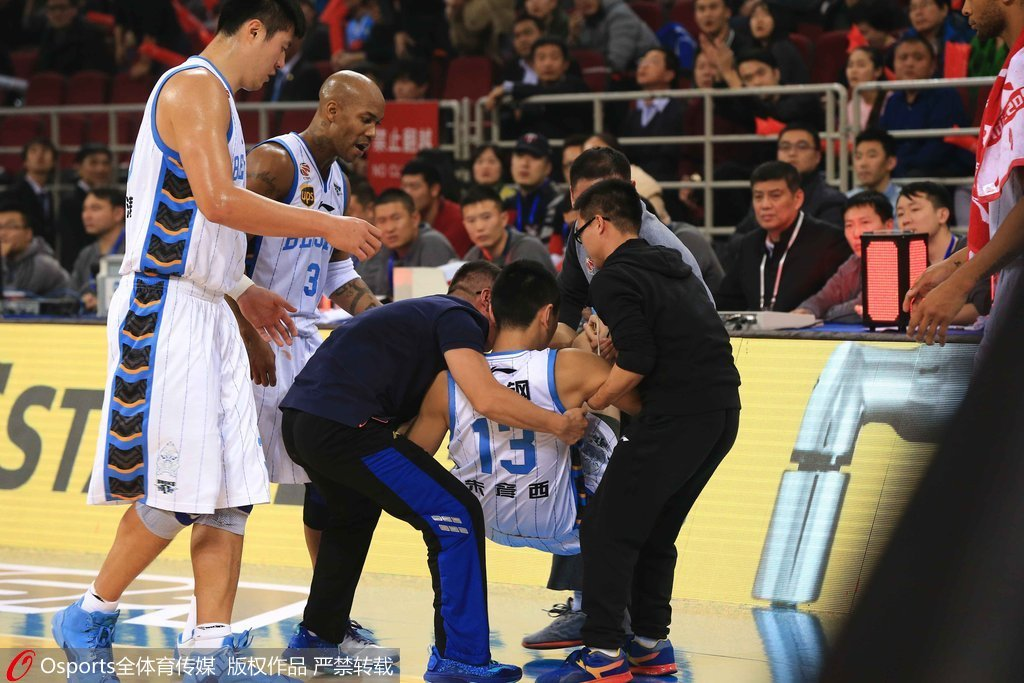10+: (1, 1, 1024, 680)
down: (391, 245, 643, 570)
